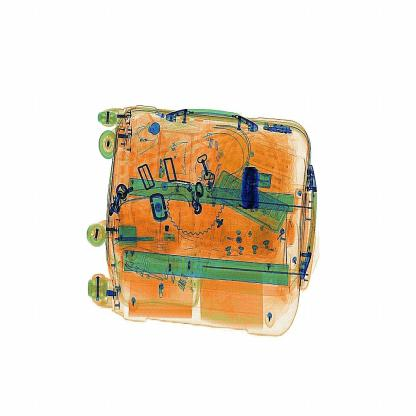scissors: (236, 150, 266, 215)
